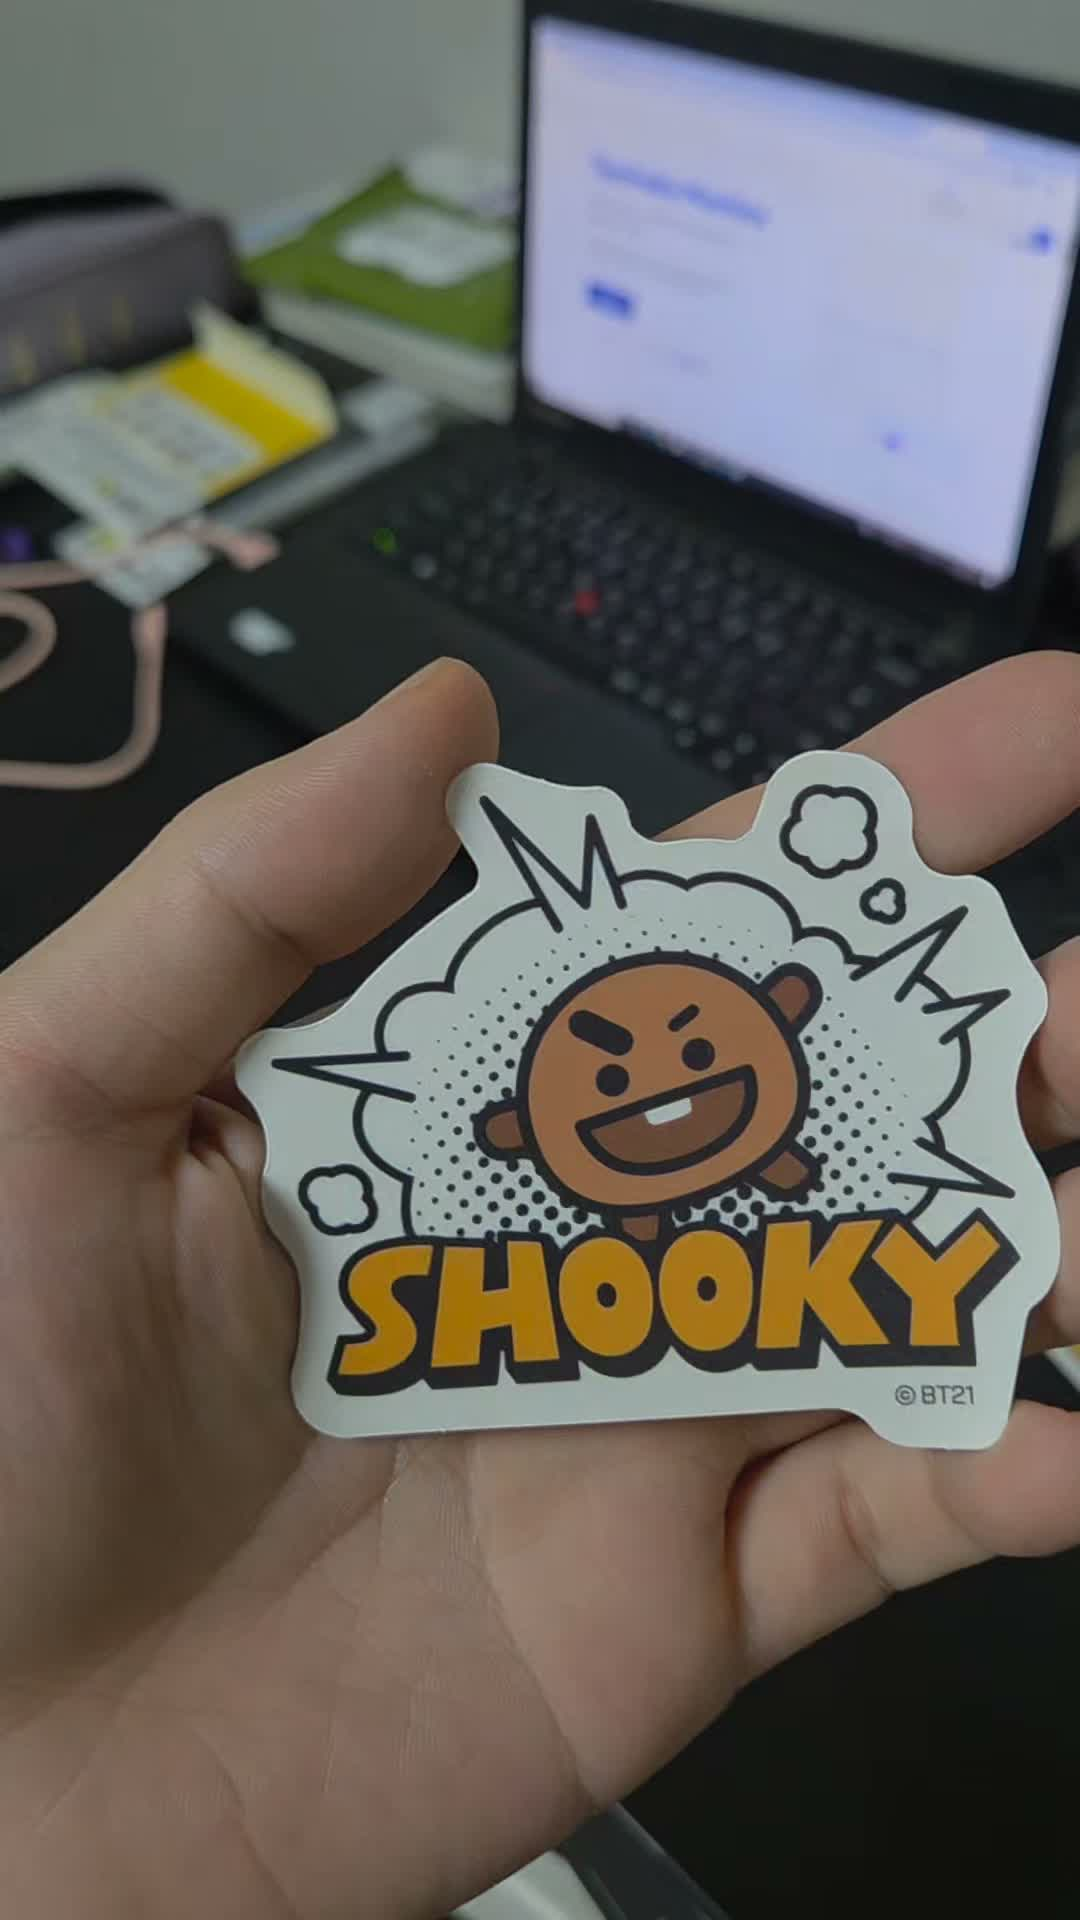tomato: (342, 849, 796, 1630)
